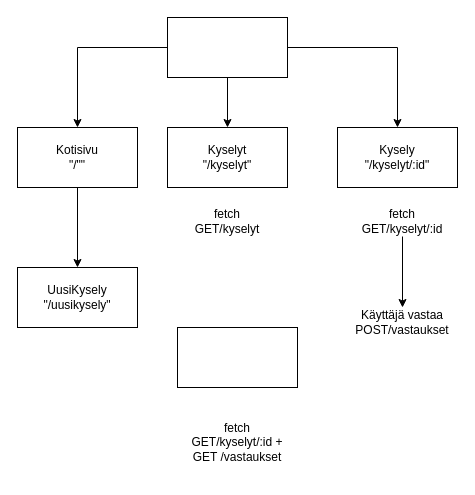
This 475x495 diagram has some shape labels left out. Each missing label, with the centre of its shape:
<App> Router: point (227, 47)
Tulosraportti "/tulosraportti/:id": point (237, 357)
